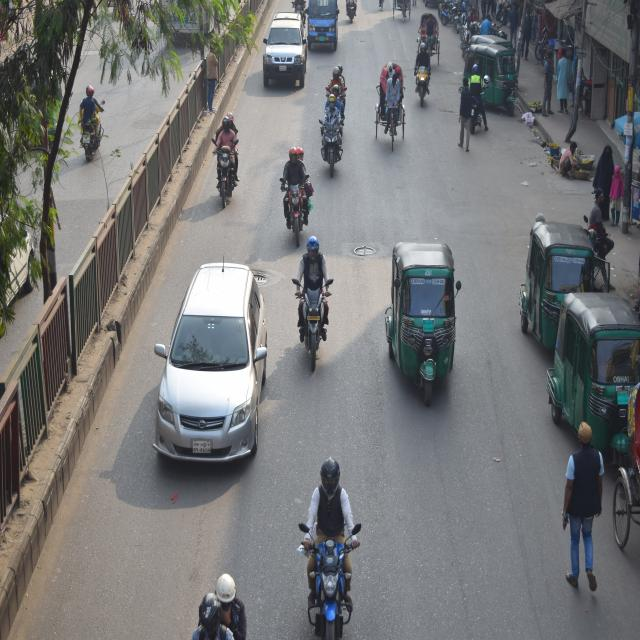car: (154, 256, 275, 464), (262, 7, 310, 84)
motorbike: (293, 494, 365, 640), (288, 258, 337, 364), (274, 156, 313, 228), (207, 116, 239, 202), (79, 85, 112, 162), (320, 106, 346, 172), (465, 72, 488, 141), (411, 52, 433, 117), (586, 204, 608, 268), (440, 0, 472, 34), (326, 66, 349, 108)
pickup-van: (307, 0, 341, 57)
